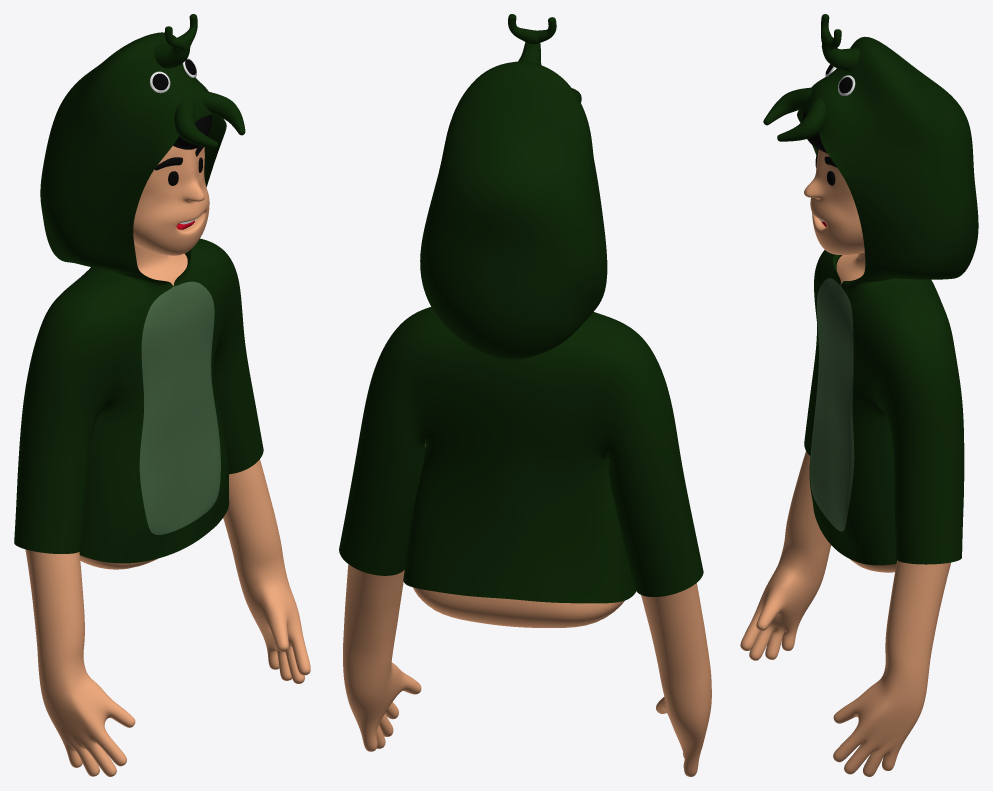
File: Horn_beetle.glb
The picture shows the model from 3 angles, left to right: view 1: azimuth 30°, elevation 25°; view 2: azimuth 150°, elevation 25°; view 3: azimuth 270°, elevation 25°; orthographic projection. The views are drawn at different scales.
Parts seen in each view (by area): view 1: Vert.315, Vert.314, Cube.231, Vert.312, Vert.316; view 2: Vert.315, Vert.314, Vert.316; view 3: Vert.315, Vert.314, Cube.231, Vert.312, Vert.316.
Boxes of the visible parts, box(x1,y1,x2,y2) form: Vert.315: box(14, 32, 263, 563); Vert.314: box(25, 245, 310, 776); Cube.231: box(133, 146, 209, 255); Vert.312: box(174, 90, 245, 148); Vert.316: box(154, 14, 197, 68); Vert.315: box(339, 61, 703, 603); Vert.314: box(343, 444, 711, 776); Vert.316: box(508, 14, 556, 64); Vert.315: box(797, 36, 978, 565); Vert.314: box(740, 252, 951, 776); Cube.231: box(804, 149, 864, 255); Vert.312: box(763, 87, 825, 141); Vert.316: box(821, 14, 859, 71).
Size of the model in its own units: 6.27 by 14.14 by 4.39.
